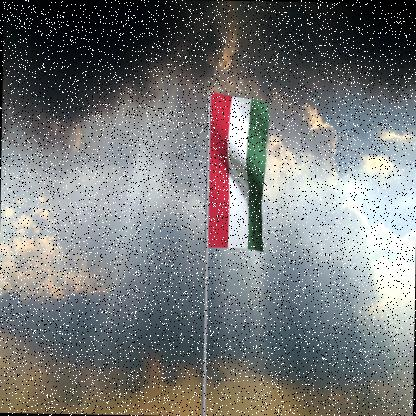hu: (209, 93, 271, 253)
